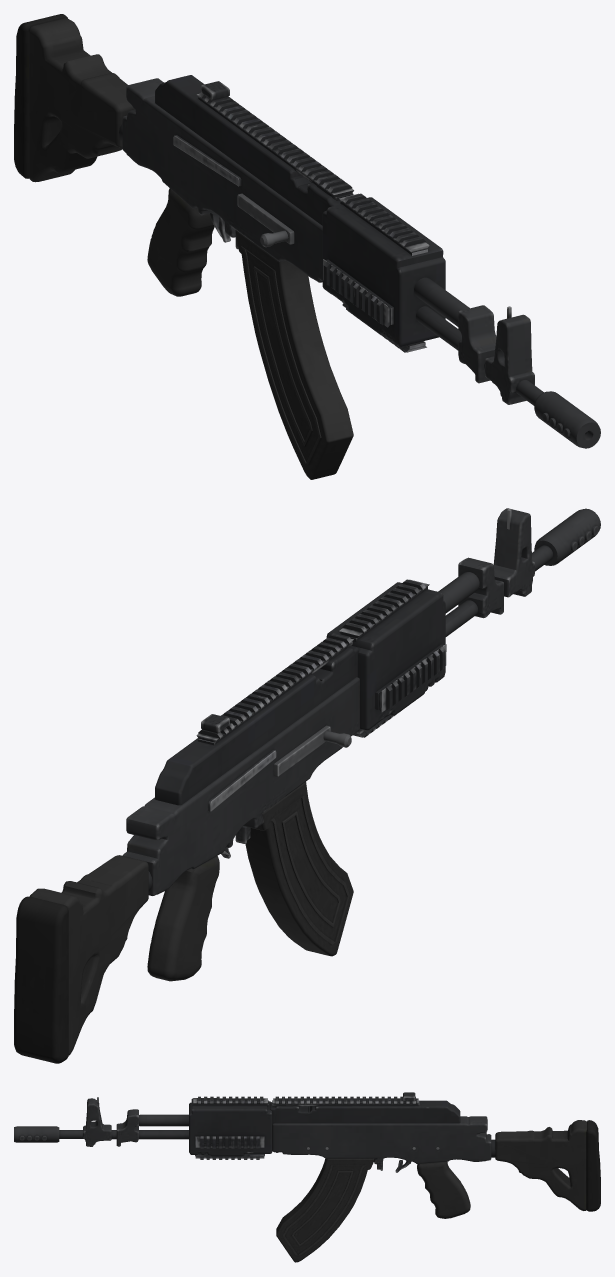
The model's file is ar_beryl.glb.
The picture shows the model from 3 angles, top to bottom: view 1: azimuth 30°, elevation 25°; view 2: azimuth 150°, elevation 25°; view 3: azimuth 270°, elevation 25°; orthographic projection. The views are drawn at different scales.
Visible parts, largest first — view 1: body, mag_mesh, bolt_mesh; view 2: body, mag_mesh, bolt_mesh; view 3: body, mag_mesh.
Part boxes in pixels (x1,y1,x2,y2): body: [14, 14, 600, 448]; mag_mesh: [235, 230, 353, 479]; bolt_mesh: [237, 193, 294, 247]; body: [14, 508, 600, 1063]; mag_mesh: [245, 782, 353, 956]; bolt_mesh: [274, 725, 351, 776]; body: [14, 1092, 600, 1218]; mag_mesh: [276, 1158, 374, 1262].
Bounding box in the file's own units: 0.0754 × 0.2925 × 0.943.
Materials: 1 (1 with a texture image).
